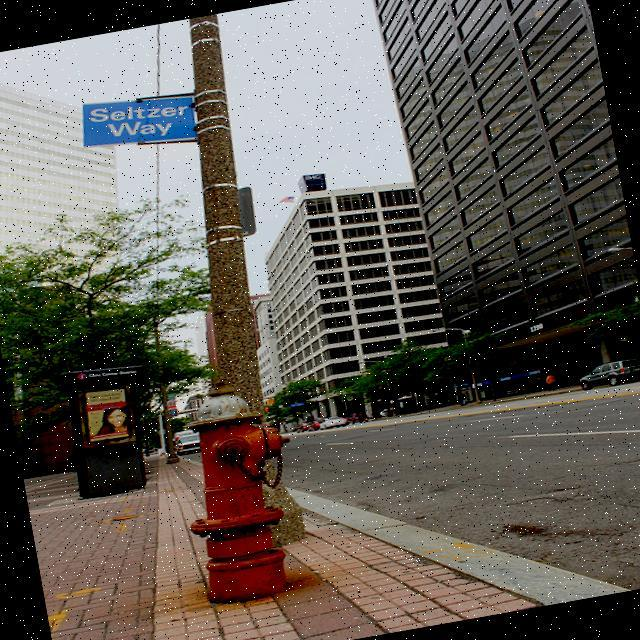fire_hydrant: (162, 360, 316, 608)
